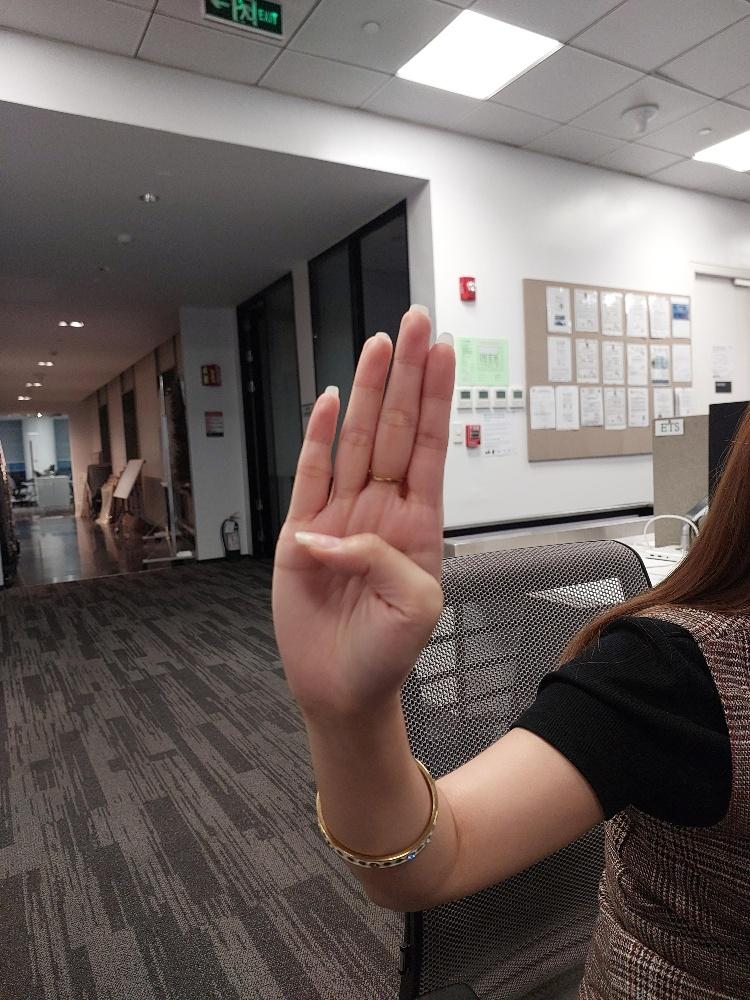b: (266, 299, 459, 713)
